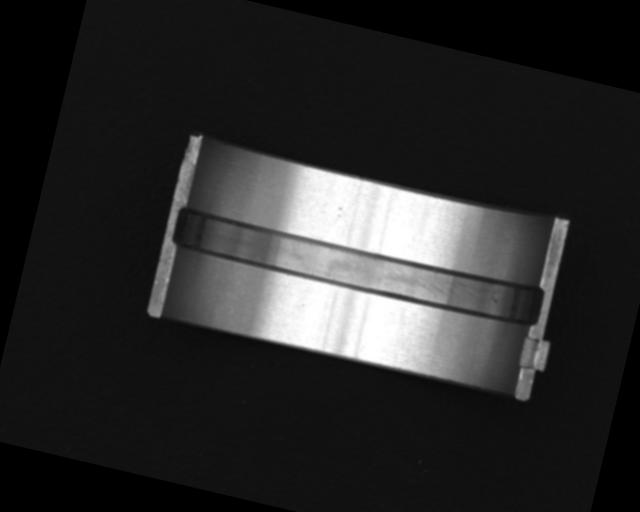gap: (168, 202, 549, 332)
